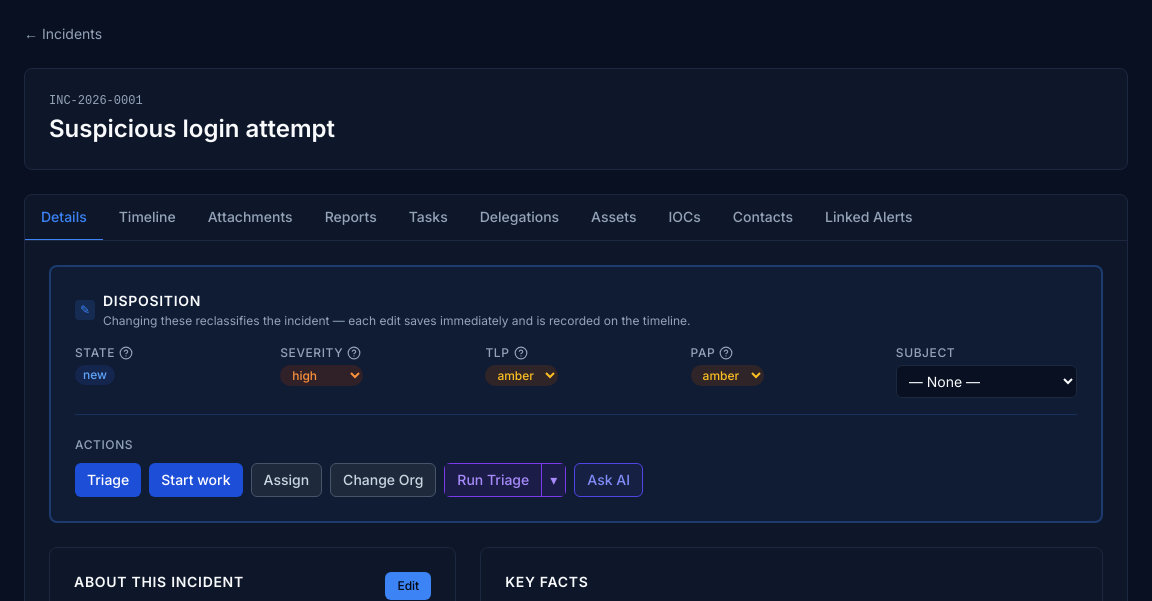
IncidentDetail › shows inline error when badge PATCH fails
The width and height of the screenshot is (1152, 601).
Select "critical" in the dropdown named "Severity" at (322, 376), box [280, 365, 363, 386]
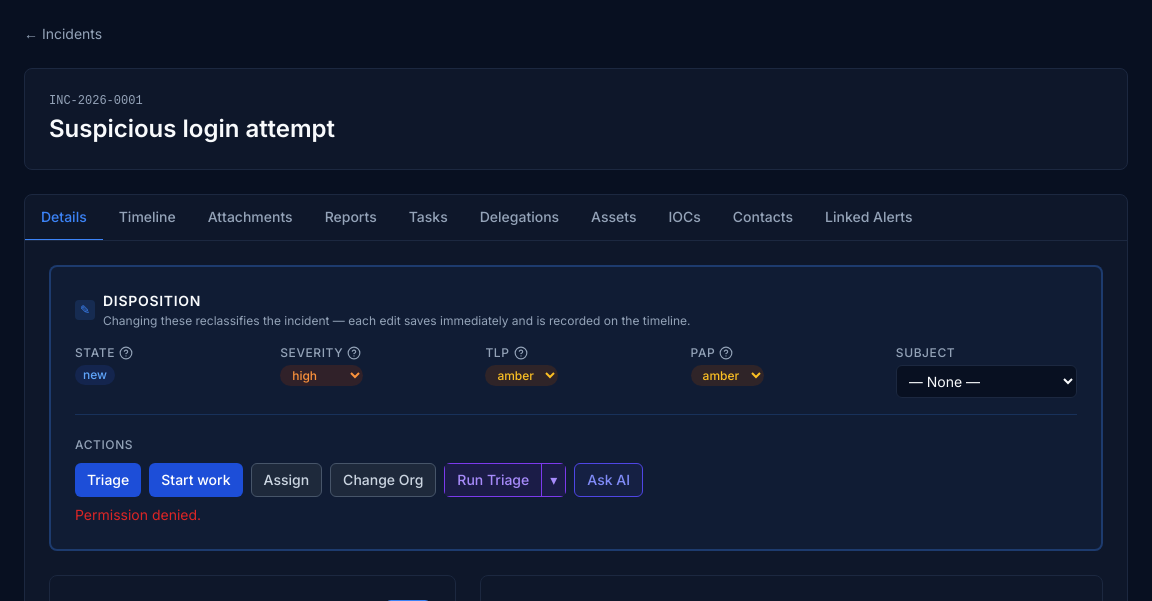
Expected: the text "Permission denied." is shown, [75, 506, 201, 523]
